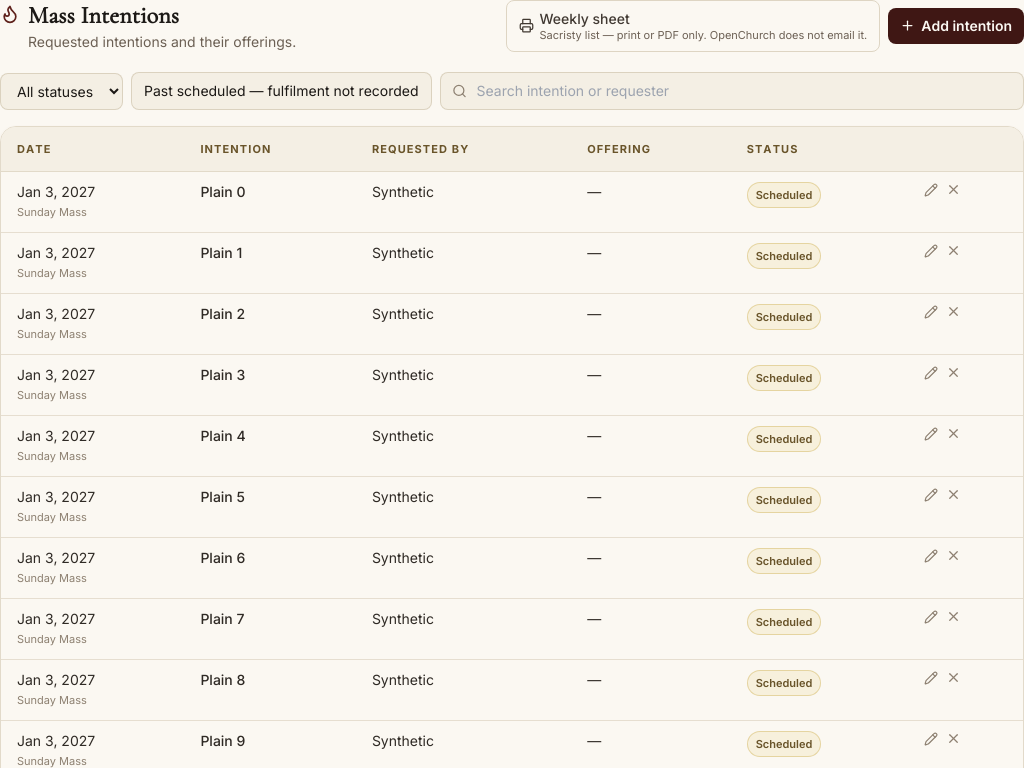
Test: R313-1 delta: save continuation owned from before the write await › POST pending → filter on → filtered page SUCCEEDS → POST resolves: no old-query reload; filtered rows, done and Load more stay current; toast "added"
expect the text "Plain 0" is shown: met, box [184,172,356,232]
Click the button "Add intention". click: point(956, 26)
box: [888,8,1023,44]
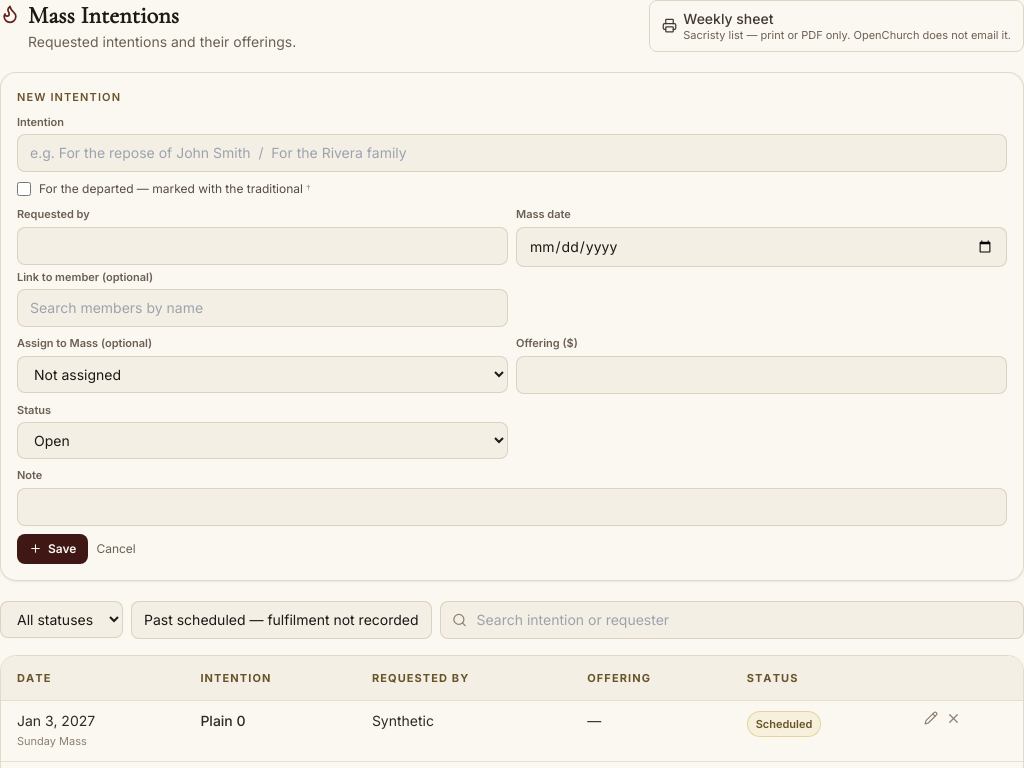
Type "For the parish" into the field labelled "Intention". click: point(512, 153)
box: [17,134,1007,172]
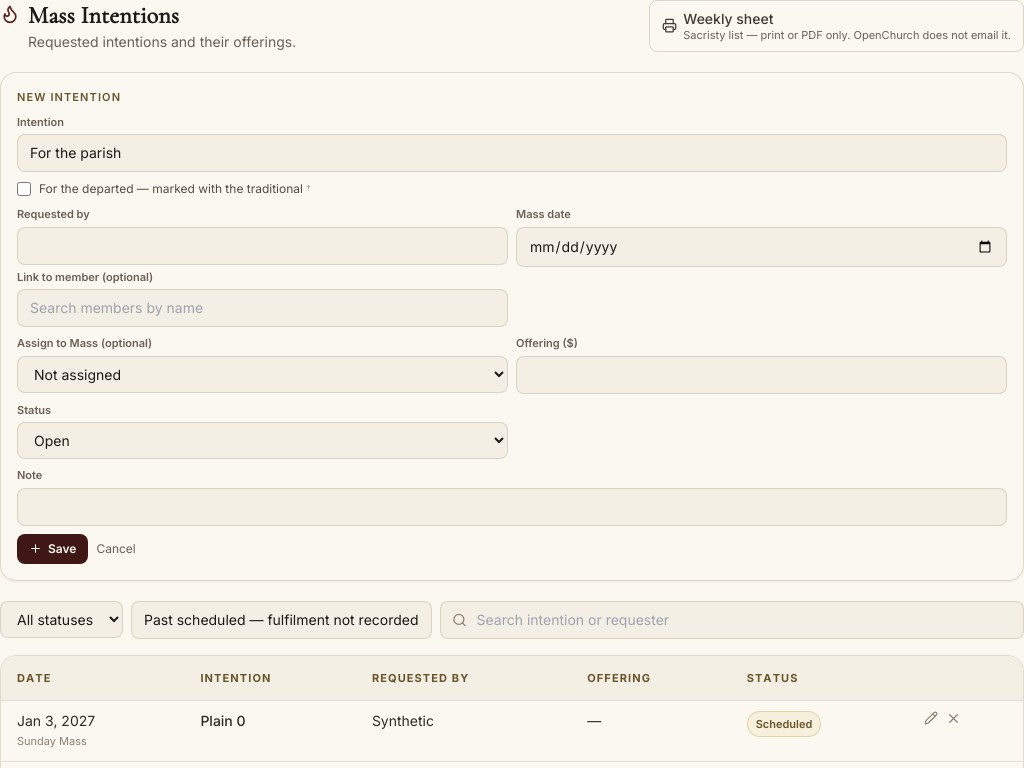
Click the button "Save". click: point(53, 548)
box: [17,534,88,564]
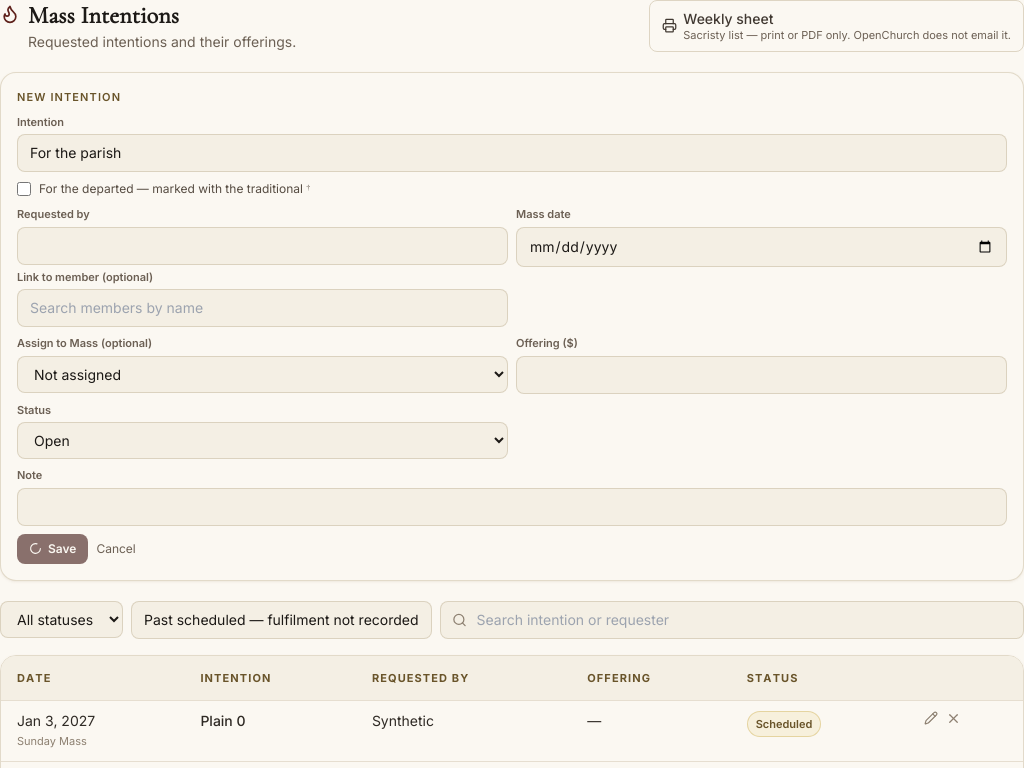
Click the button with test id "mi-past-filter". click: point(281, 620)
box: [131,600,432,638]
(page scrolled)
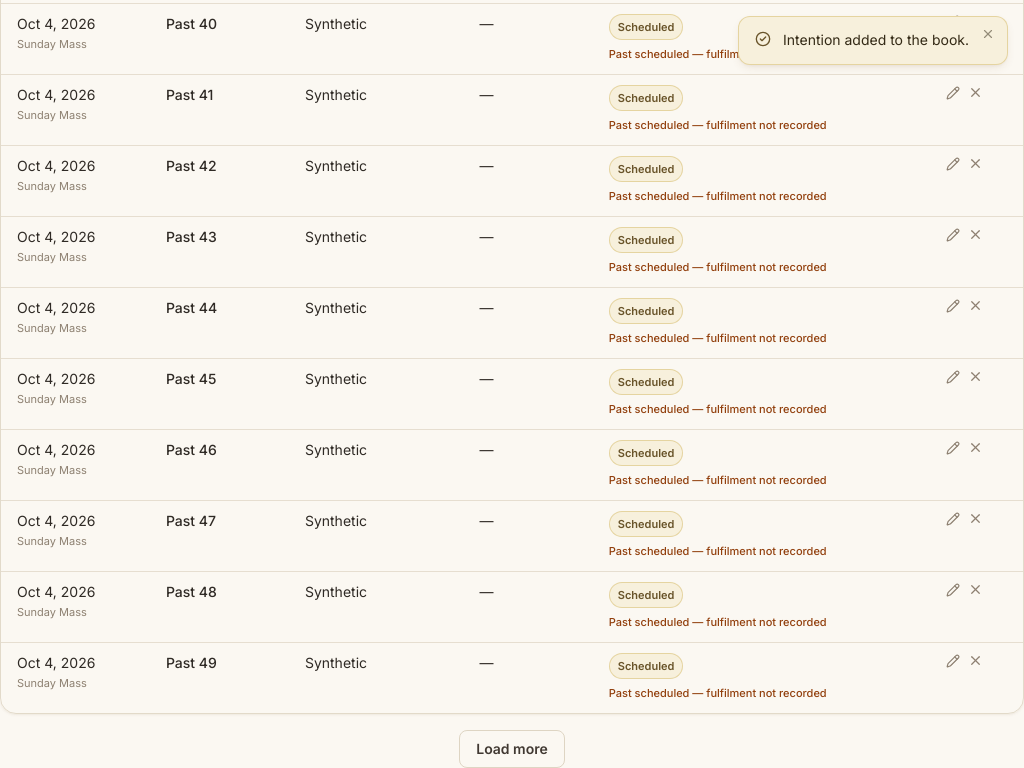
expect the button "Load more" is enabled: met, box [459,730,565,767]
expect the text "Intention added to the book." is shown: met, box [783,29,969,52]
